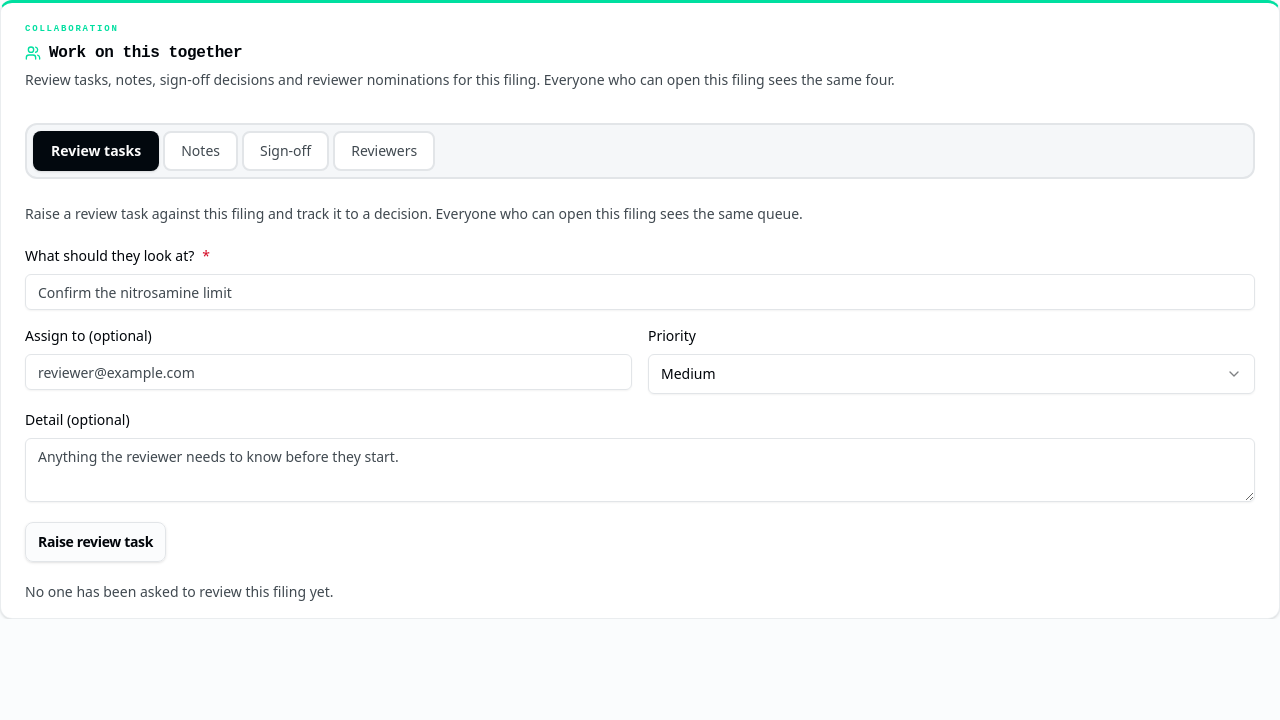
SubjectCollaborationPanel › loads only the open tab, then the one the reader switches to
Click the tab "Notes". click: click(201, 151)
box: [163,131,238,171]
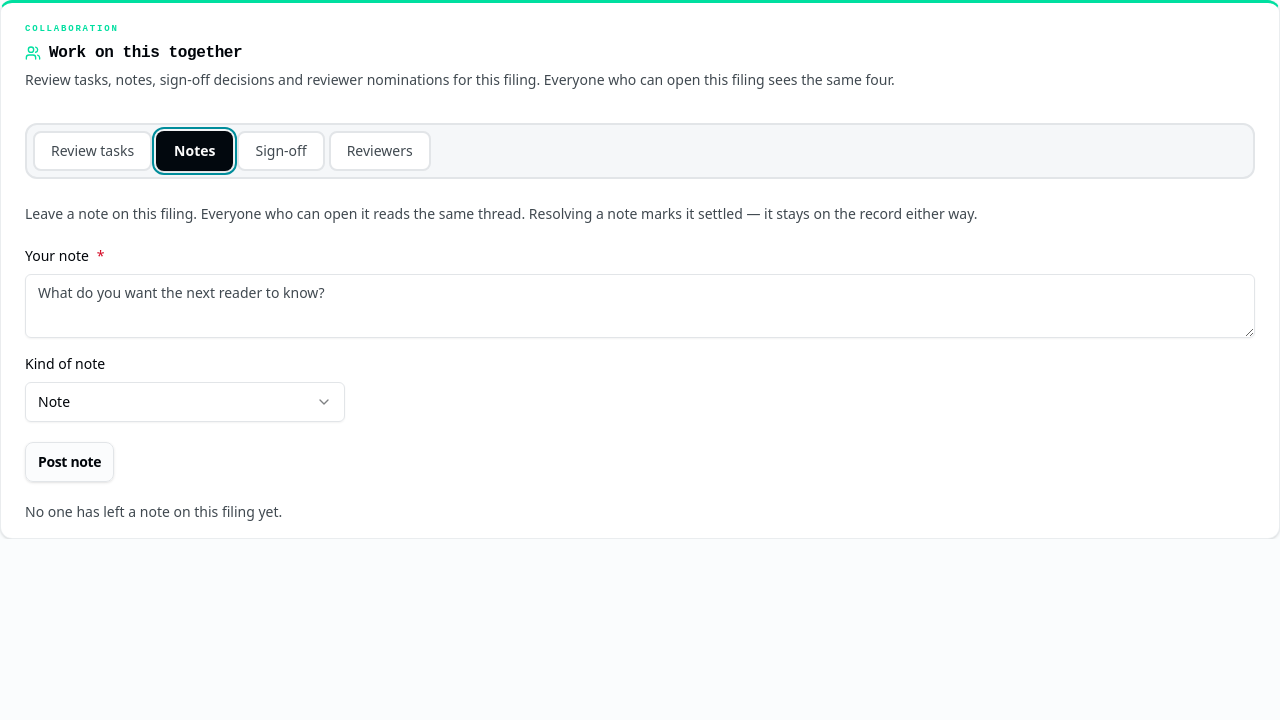
Expected: the text box labelled "Your note *" is shown, [25,274,1255,338]
